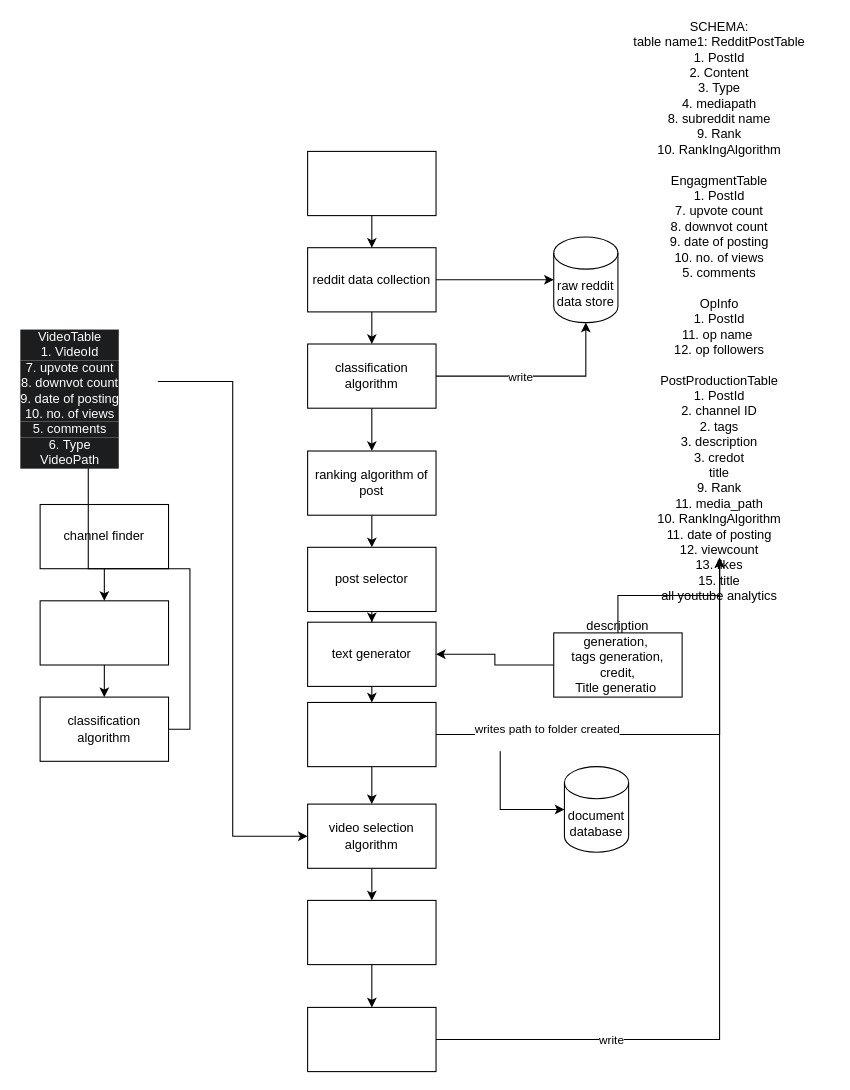
Image size: 850x1090. Some labels were removed from this diagram. The shapes that lost their labels are listed below. From the top down, each one's centre as x and y in pixels, then its label:
At point 371,183: "subreddit finder".
At point 104,632: "video downloader".
At point 371,734: "audio synthesizer".
At point 371,932: "video editing".
At point 371,1039: "video uploading".
